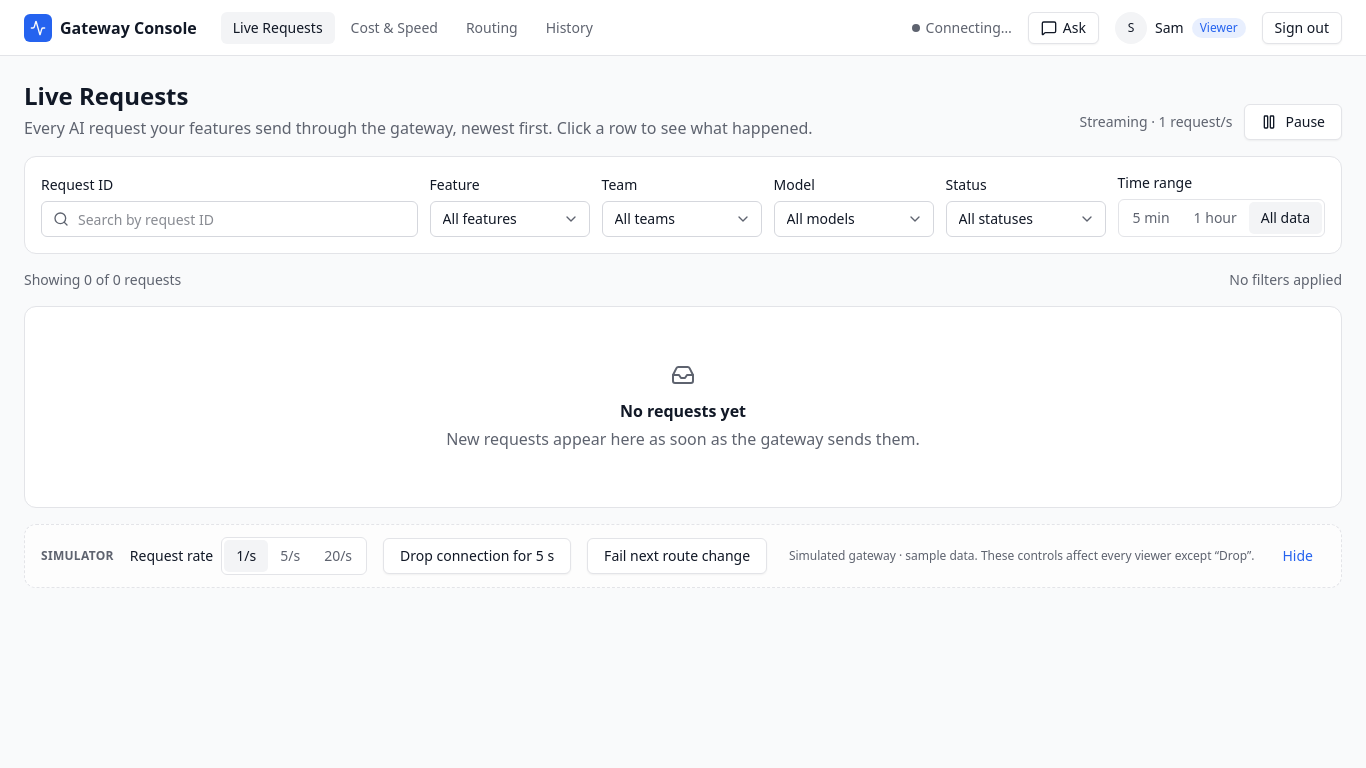
Test: Chat panel (S7, FR-24..FR-28) › shows a Viewer refusal politely with a way to see the route (FR-27, Flow F)
Click the button "Ask". click: (1063,28)
box: [1028,12,1099,44]
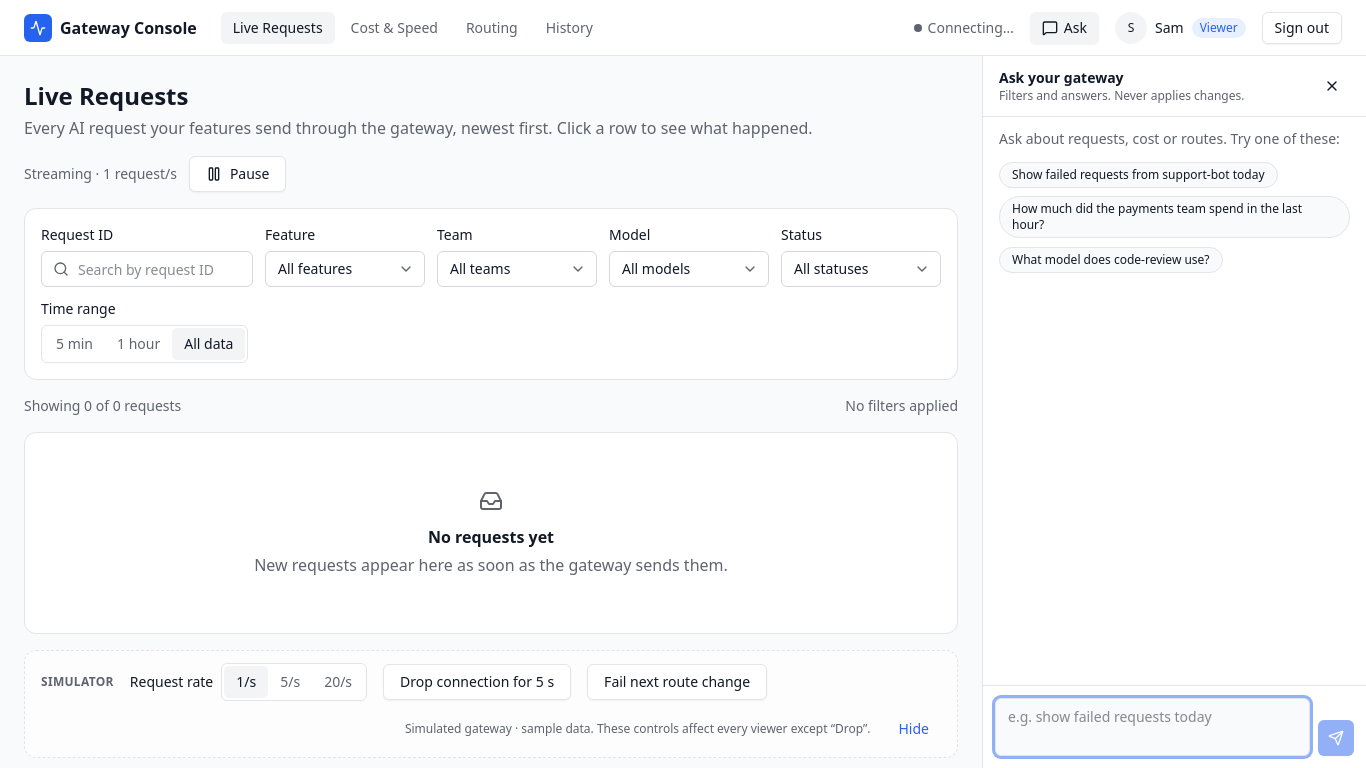
Type "move support-bot to Grok" into the text box named "Message". click: (1152,727)
box: [995,698,1310,756]
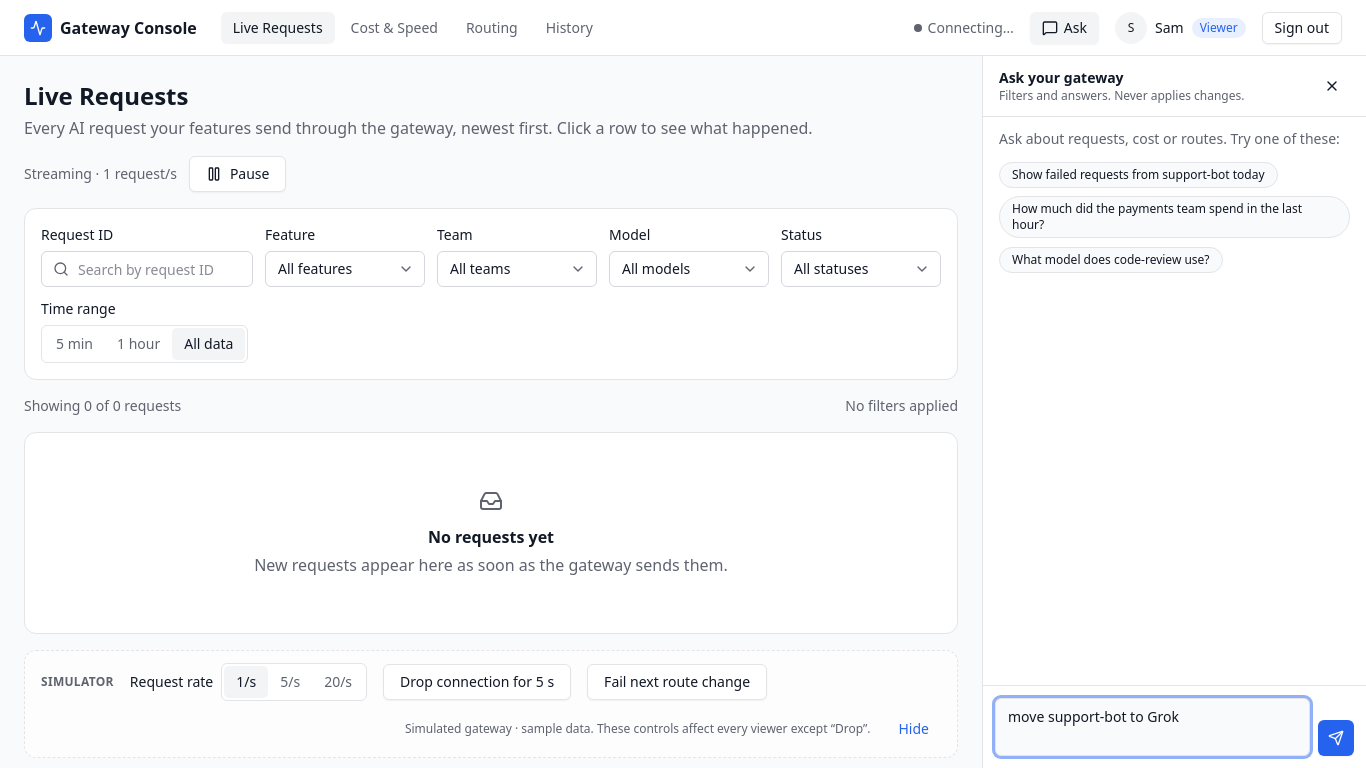
Click the button named "Send". click: (1336,738)
box: [1318,720,1354,756]
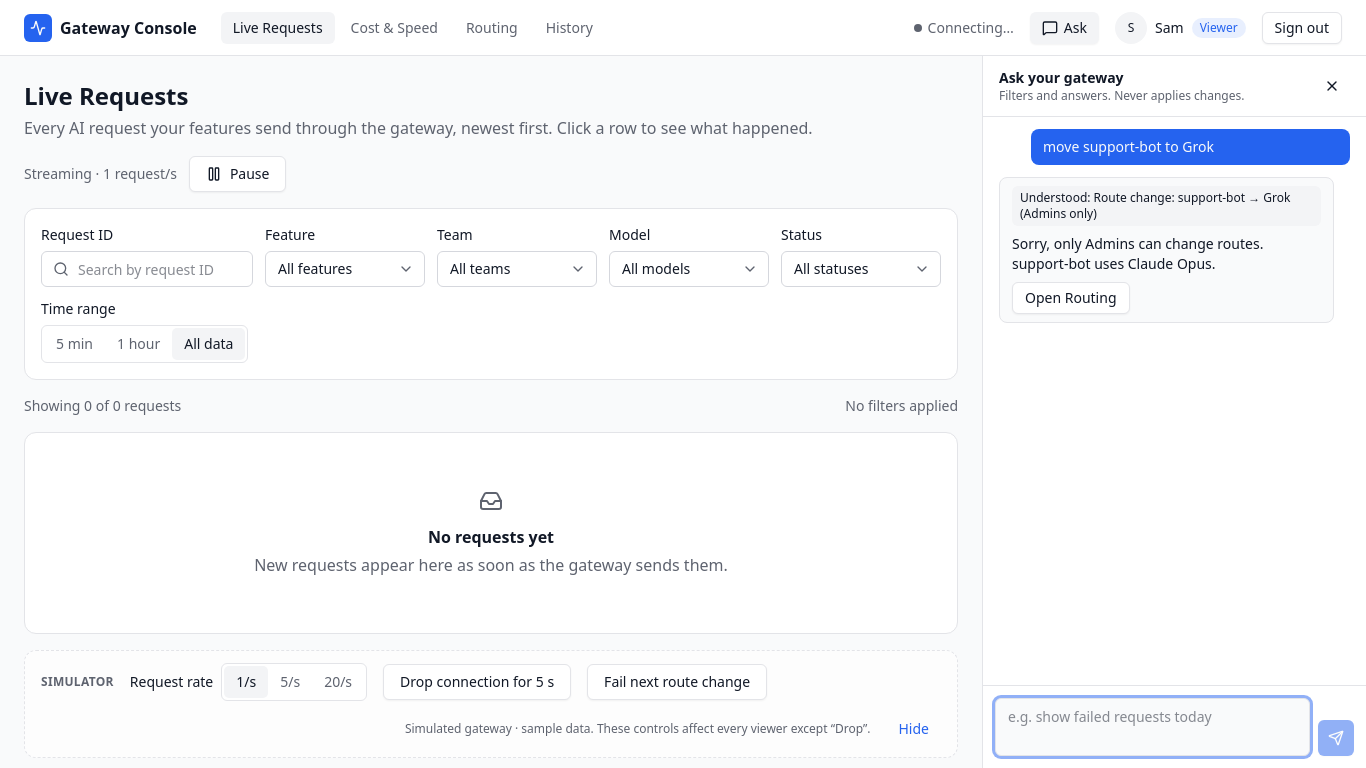
expect the text "only Admins can change routes" is shown: met, box [1012,234,1263,273]
Click the button "Open Routing". click: (1071,298)
box: [1012,282,1130,314]
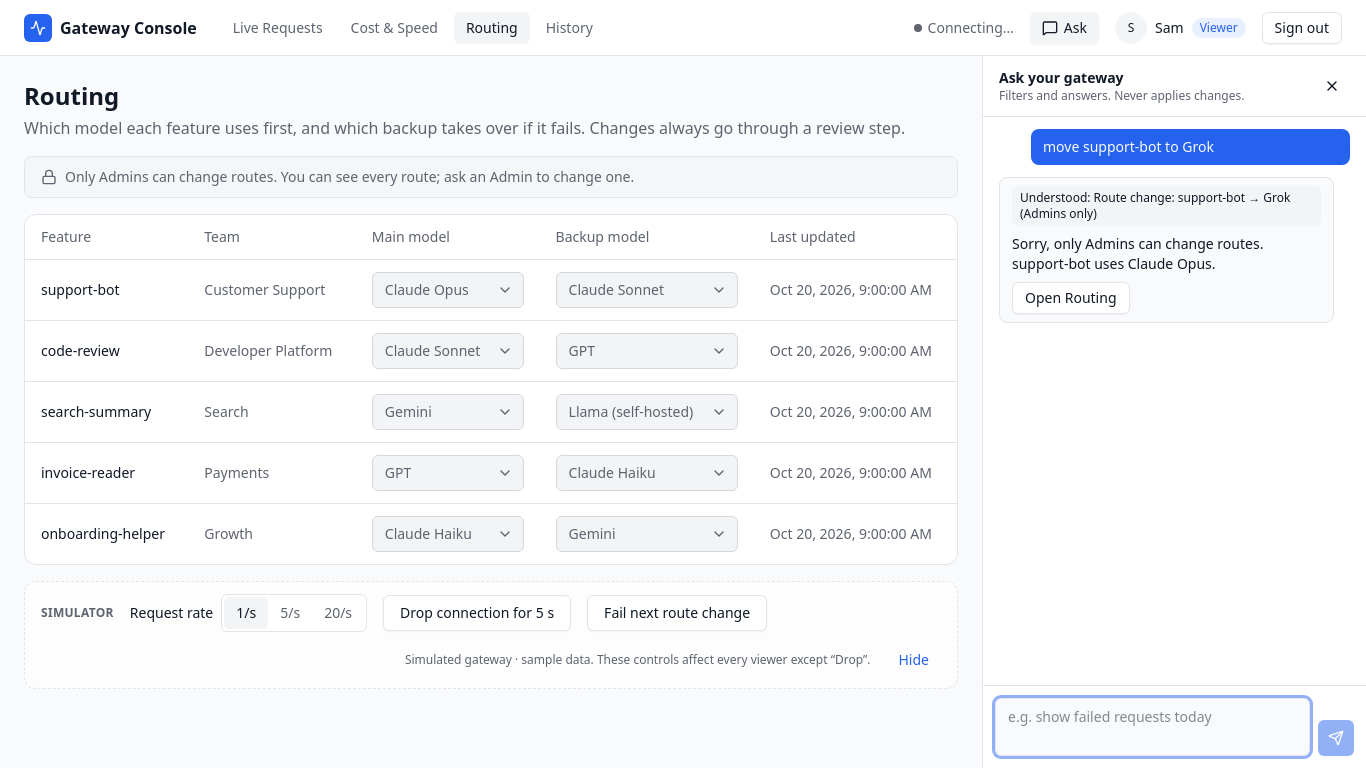
expect the heading "Routing" is shown: met, box [24,79,119,112]
